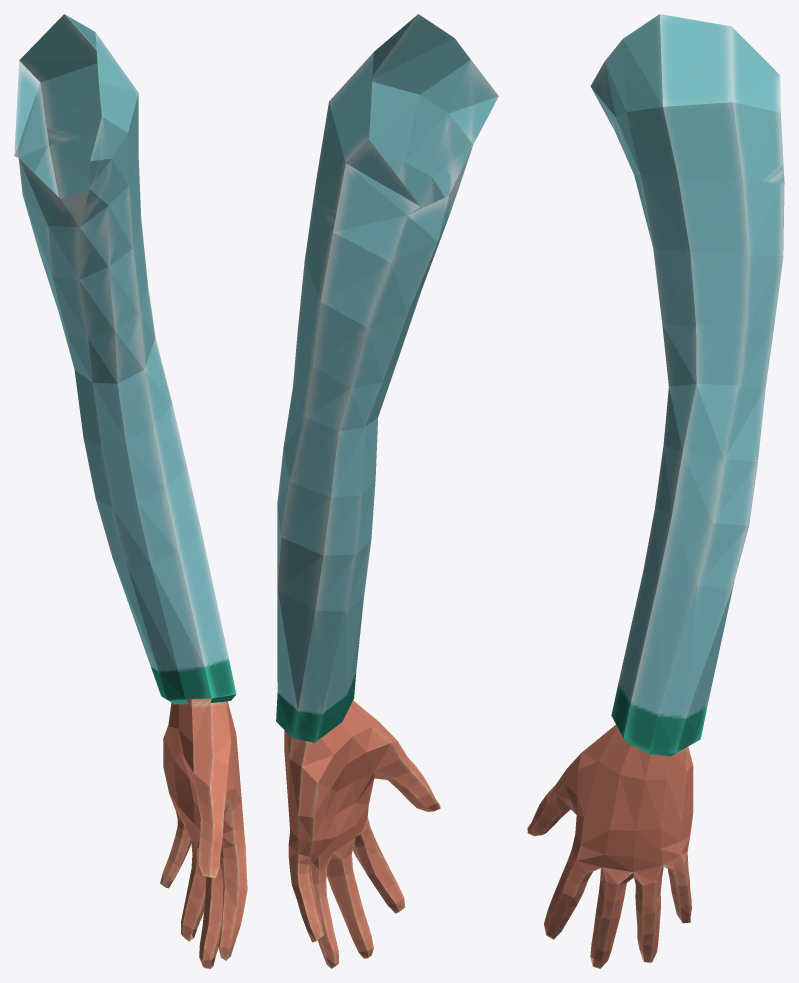
The model's file is brazoIzq.fbx.
3 views of the same model, side by side, from view 1: azimuth 30°, elevation 25°; view 2: azimuth 150°, elevation 25°; view 3: azimuth 270°, elevation 25° (orthographic). The views are drawn at different scales.
Visible parts, largest first — view 1: Human 2.002; view 2: Human 2.002; view 3: Human 2.002.
Part boxes in pixels (x1,y1,x2,y2): Human 2.002: (14, 14, 247, 968); Human 2.002: (276, 14, 498, 968); Human 2.002: (527, 14, 784, 968).
Size of the model in its own units: 13.74 by 71.34 by 18.15.
